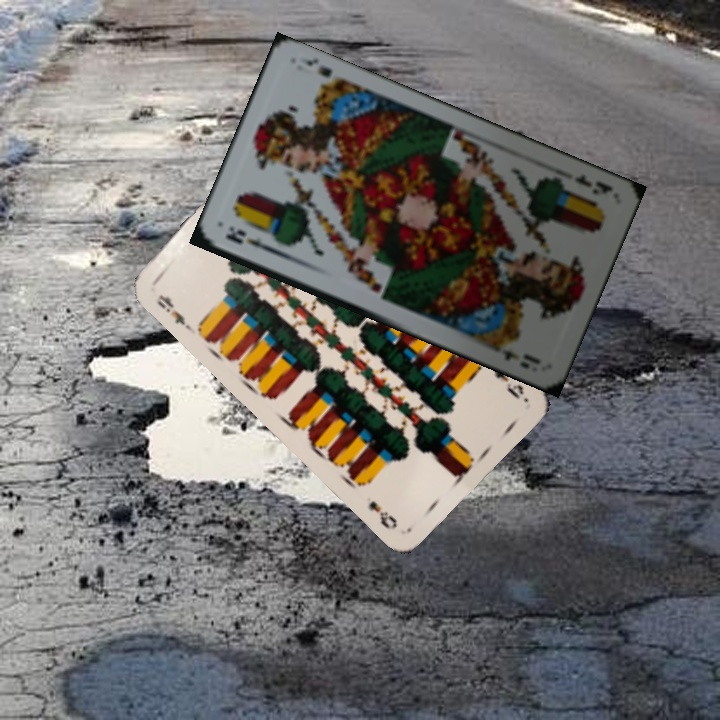E9: (152, 290, 193, 332), (489, 364, 527, 402)
EK: (221, 222, 277, 256), (571, 171, 616, 198)
